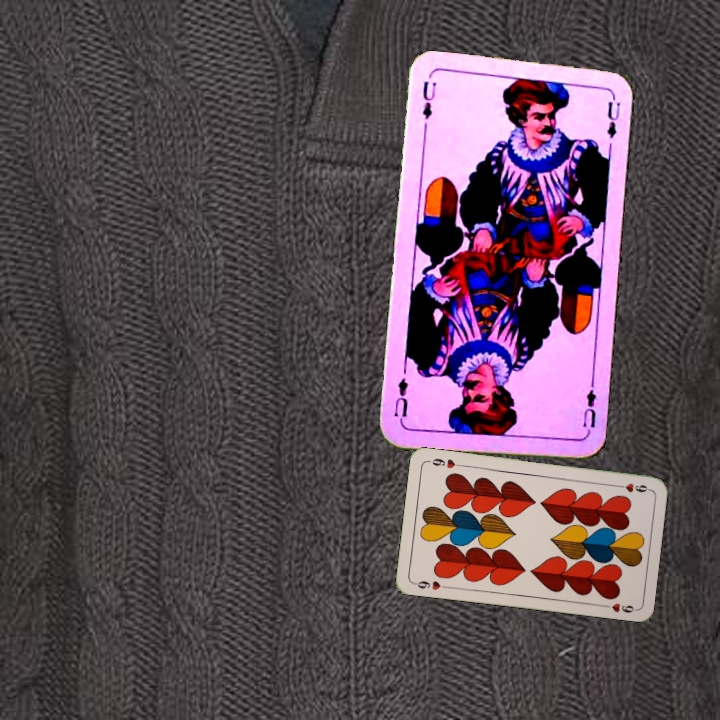EU: (578, 380, 599, 439), (418, 77, 439, 121)
H9: (611, 479, 652, 495), (410, 577, 450, 593)
